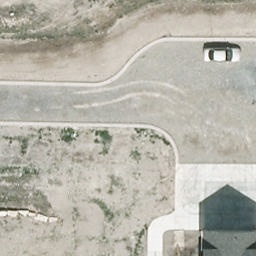car: (203, 47, 243, 63)
